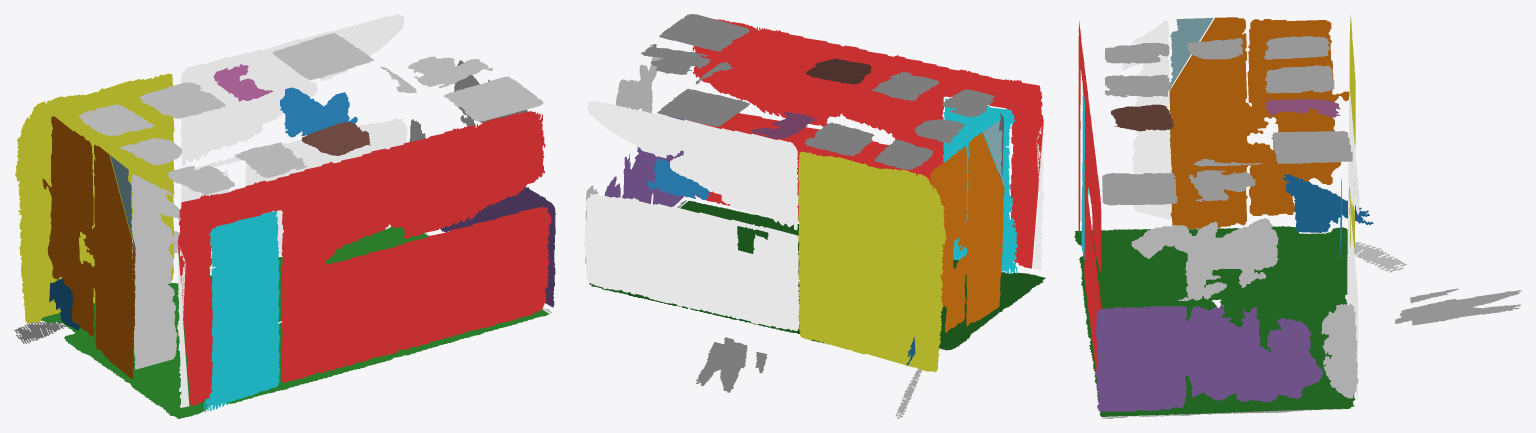
File: ours.glb
The picture shows the model from 3 angles, left to right: view 1: azimuth 30°, elevation 25°; view 2: azimuth 150°, elevation 25°; view 3: azimuth 270°, elevation 25°; orthographic projection. The views are drawn at different scales.
Visible parts, largest first — view 1: Node1; view 2: Node1; view 3: Node1.
Boxes of the visible parts, <box> form: Node1: <box>14,14,555,418</box>; Node1: <box>584,14,1045,418</box>; Node1: <box>1074,15,1521,418</box>.
Bounding box in the file's own units: 6.4 × 3.79 × 5.97.
